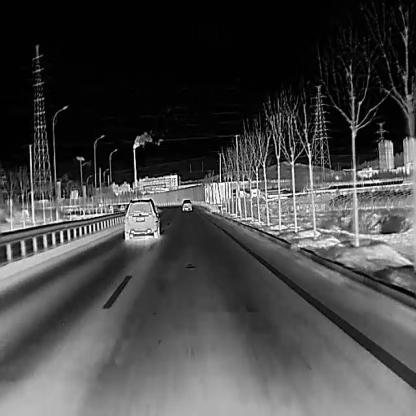car: (122, 197, 158, 240), (181, 198, 191, 210)
